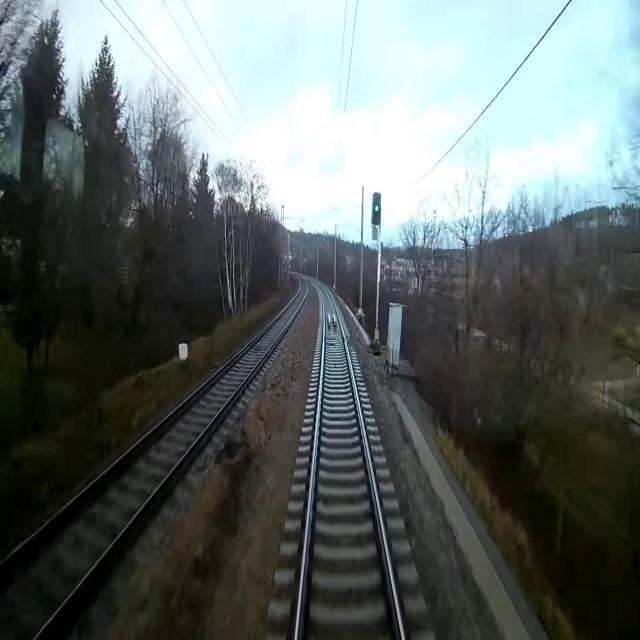rail-track: (0, 278, 306, 639), (298, 283, 401, 639)
